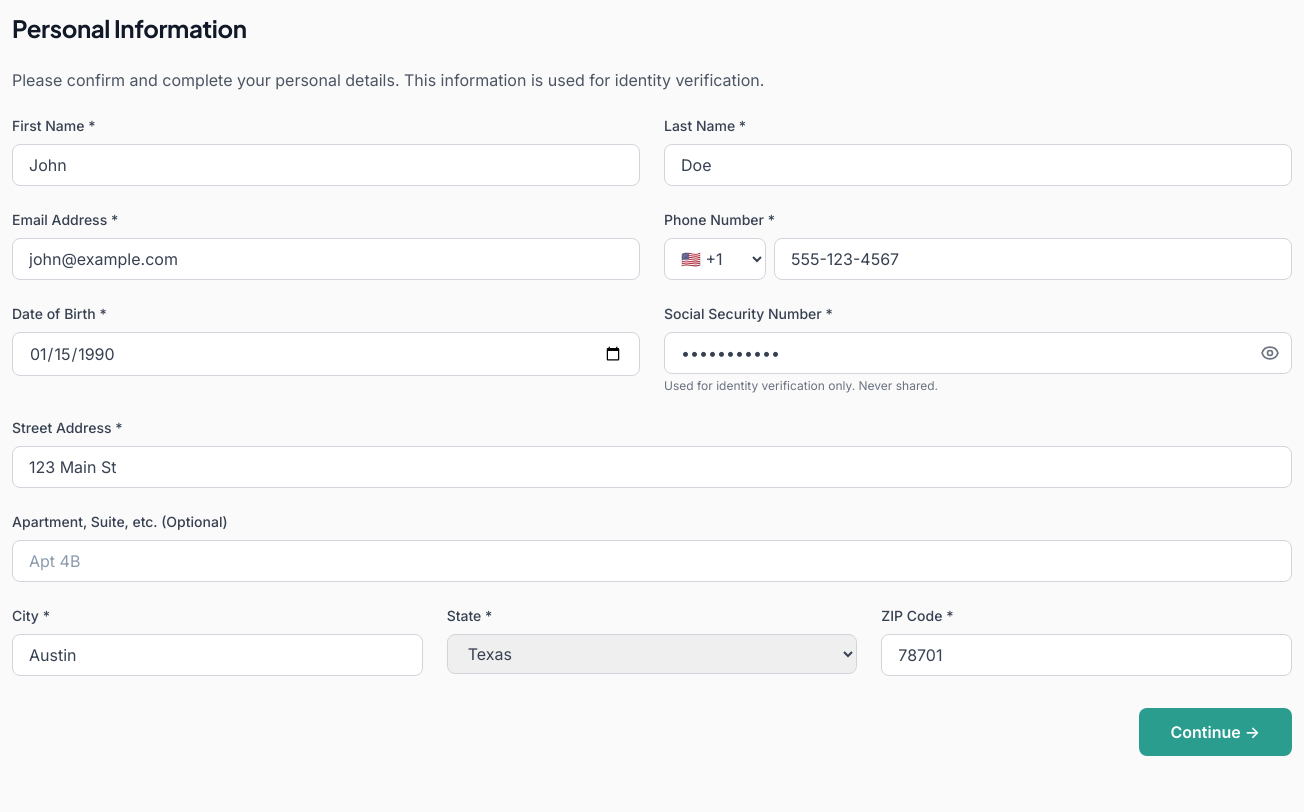
Test: PersonalInfoStep › SSN field › toggles SSN visibility when clicked
Click toggle
Click the button named "show ssn": (1270, 353) [1260,343,1280,363]
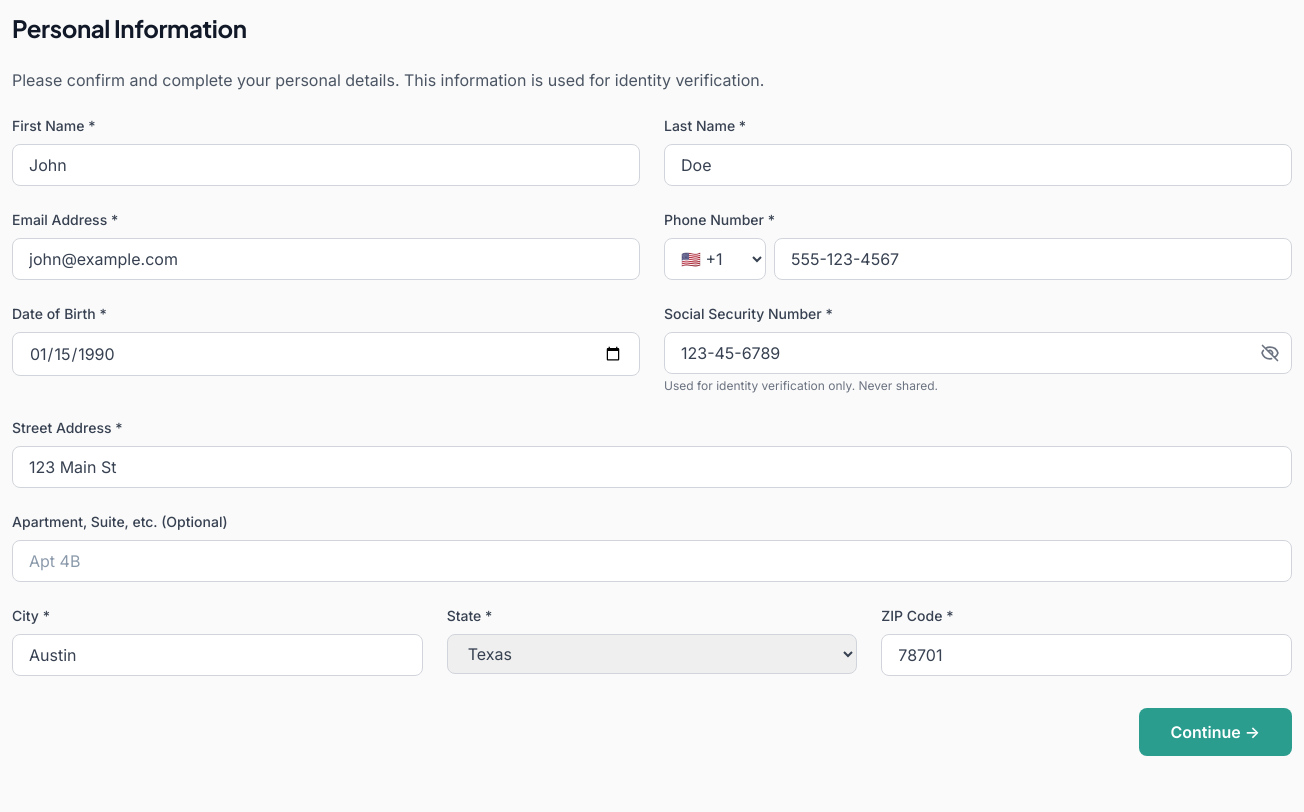
Expected: the field with placeholder "###-##-####" below "Social Security Number *" shows its text, [664,332,1292,374]
